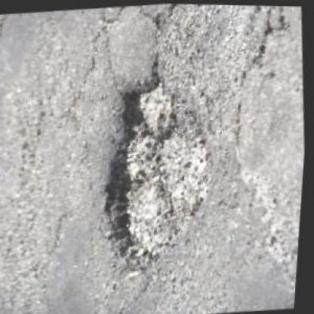Hueco: (89, 65, 231, 274)
